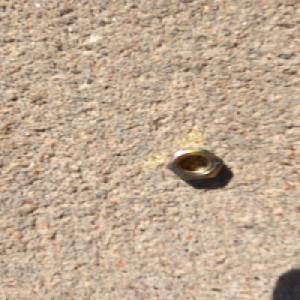Nut: (164, 147, 228, 182)
